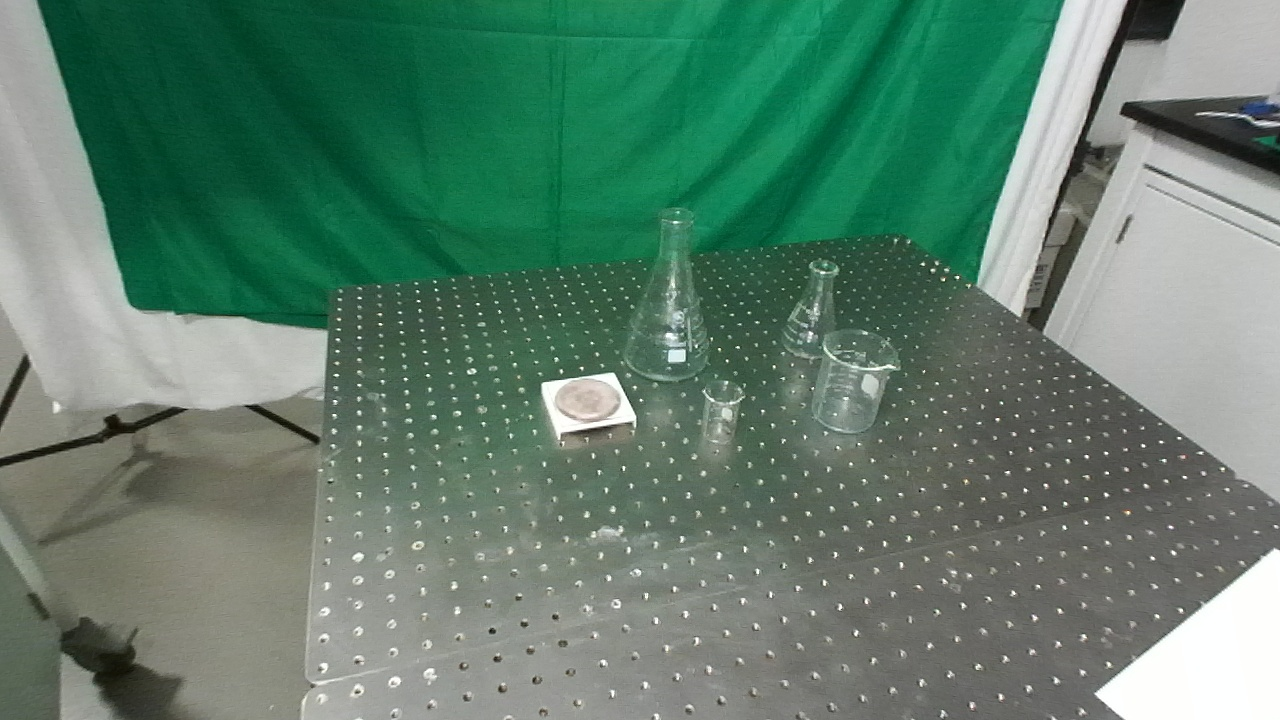glass: (619, 206, 714, 388), (810, 328, 900, 438), (780, 257, 849, 363), (697, 379, 746, 449)
plate: (537, 368, 639, 449)
